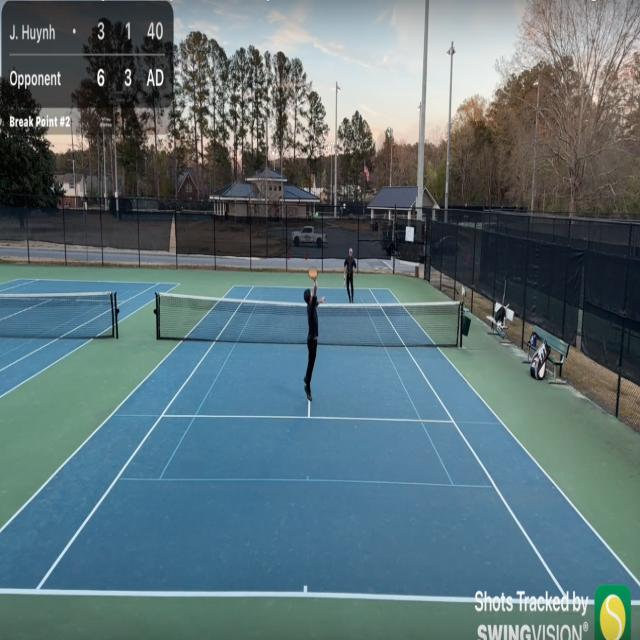ball: (316, 212, 318, 217)
